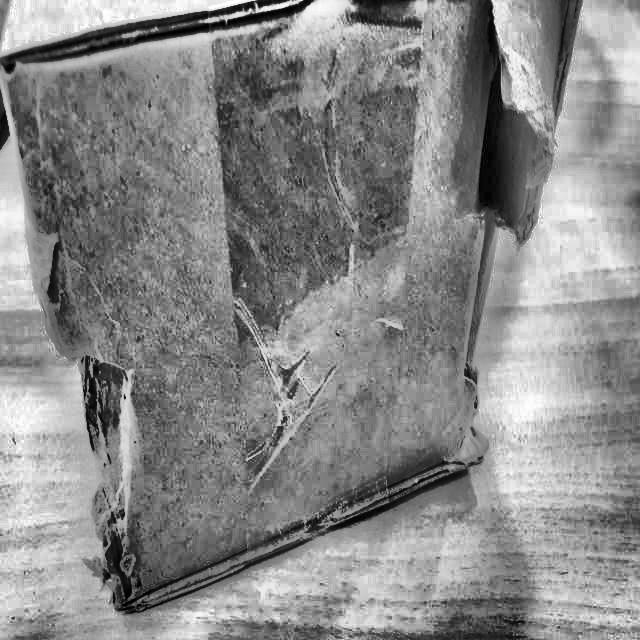box: (0, 0, 584, 632)
hole: (475, 6, 553, 230), (74, 336, 143, 544)
